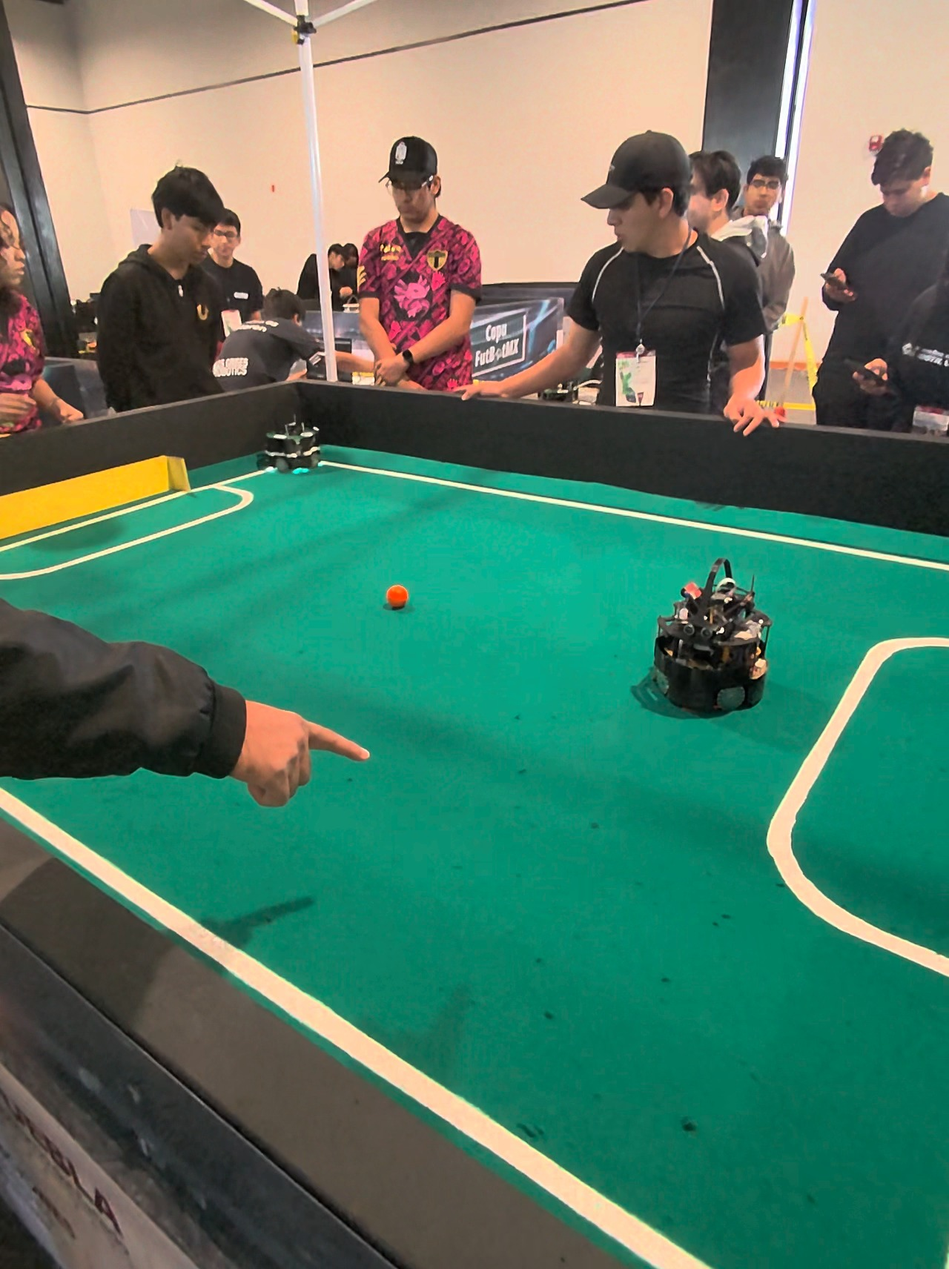Robot: (651, 553, 777, 720), (264, 383, 327, 475)
pelota: (392, 587, 410, 606)
